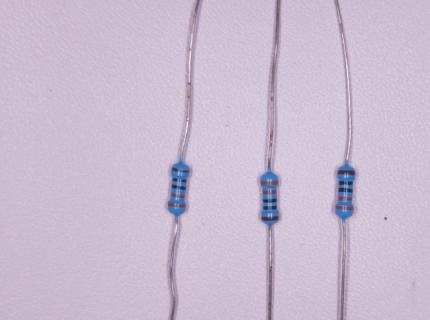Black band: (172, 185, 186, 191), (172, 178, 187, 183), (339, 188, 353, 193), (263, 198, 277, 203), (339, 181, 353, 185), (263, 206, 277, 210)
Brown band: (172, 167, 190, 173), (338, 170, 355, 175), (262, 216, 278, 221)
Orange band: (168, 203, 186, 208), (171, 193, 185, 198), (338, 196, 352, 201), (261, 181, 278, 185), (336, 206, 353, 210), (263, 190, 277, 194)
